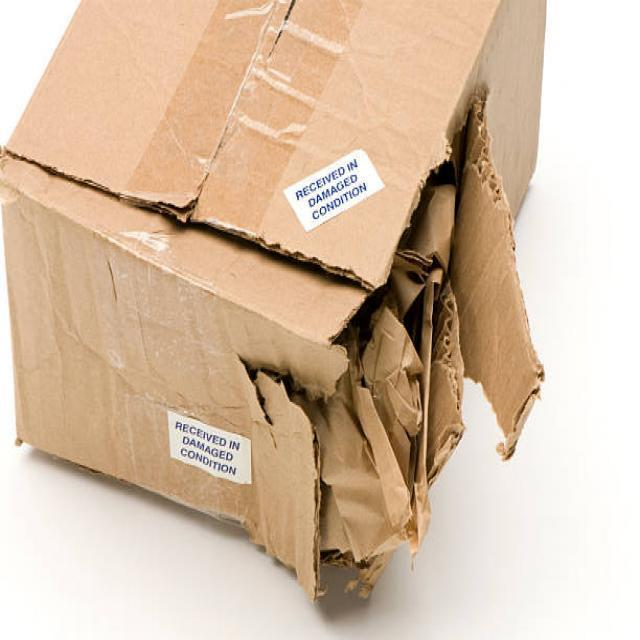damaged: (226, 258, 474, 583)
